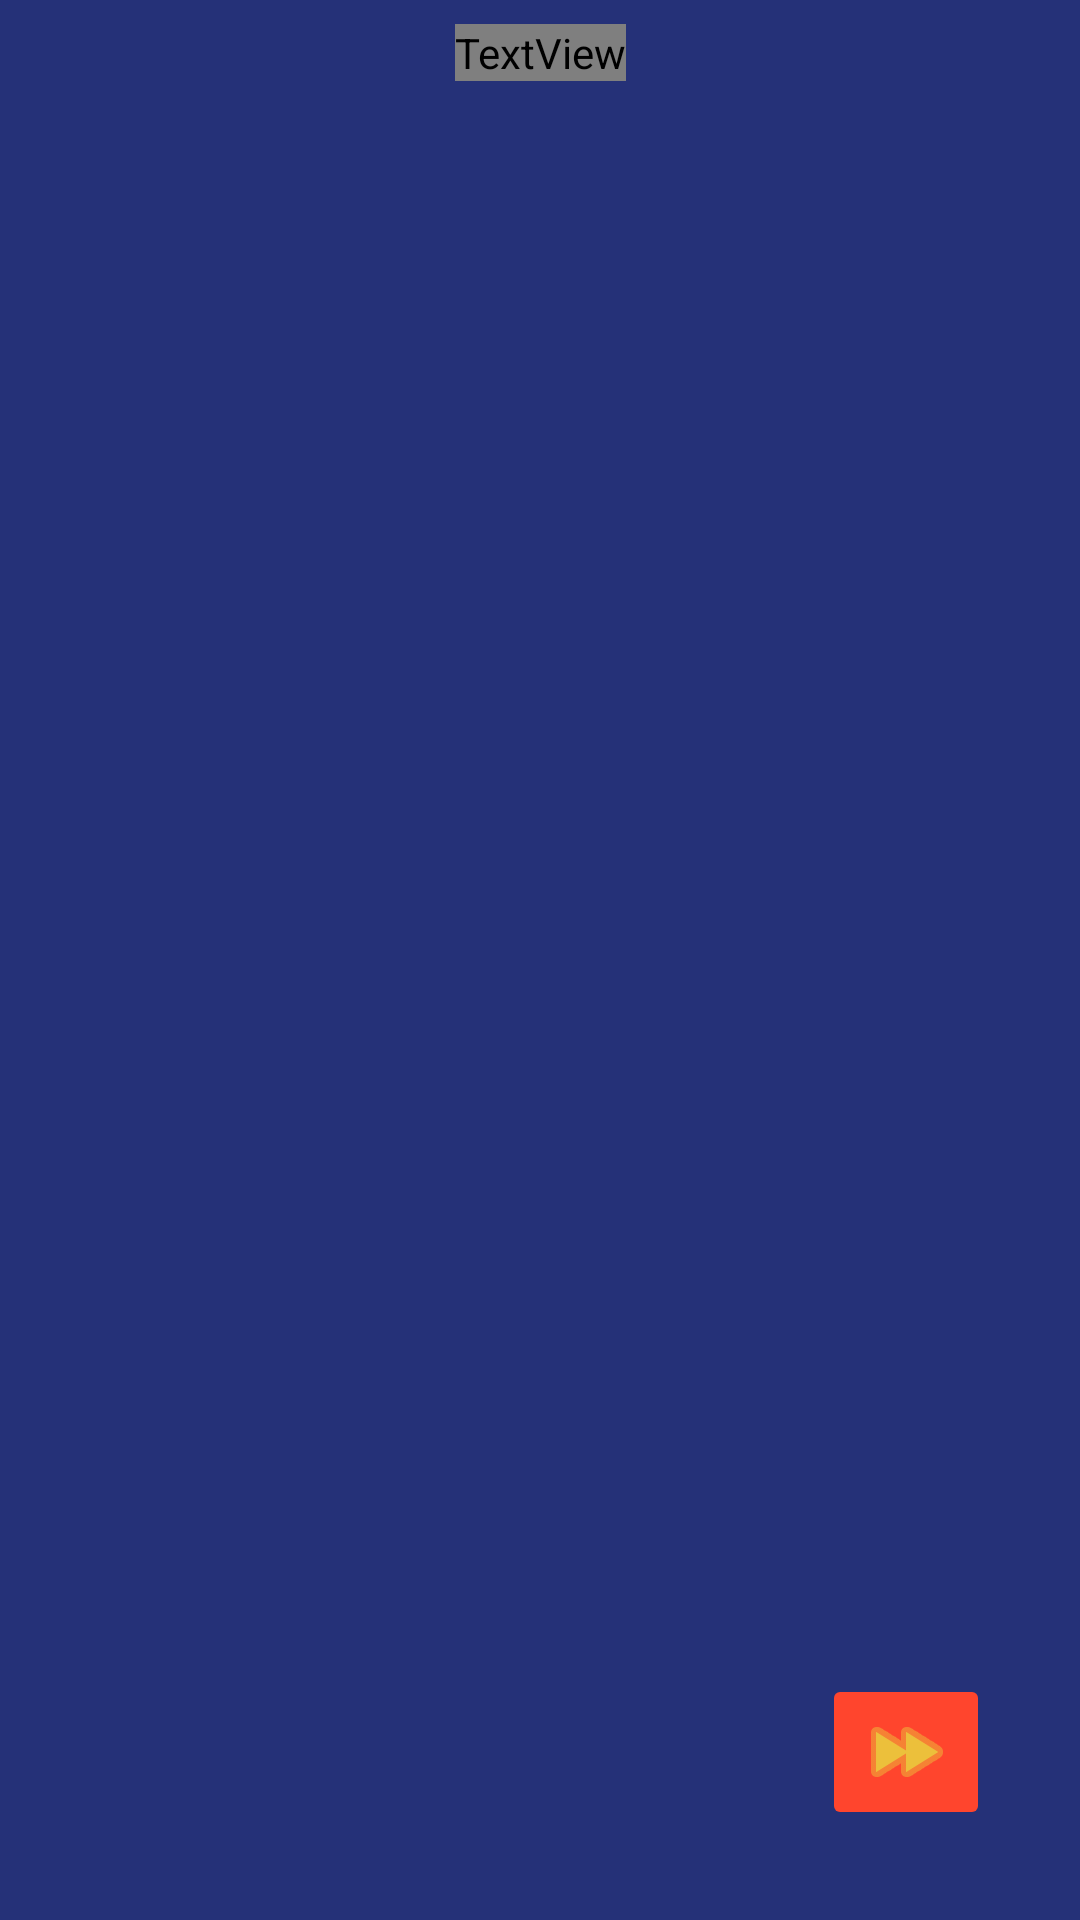

Screen size 1080w x 1920h. Icon name, then its center in pixels as [x,y]:
Next: [906,1752]
